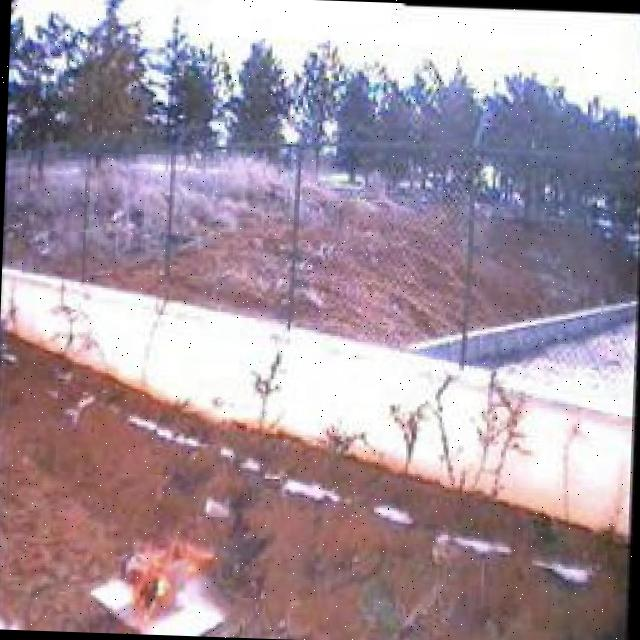fire: (111, 538, 218, 628)
